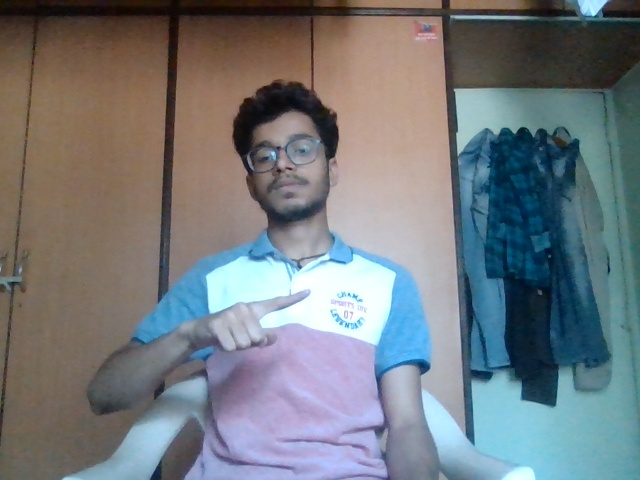you: (187, 289, 315, 369)
